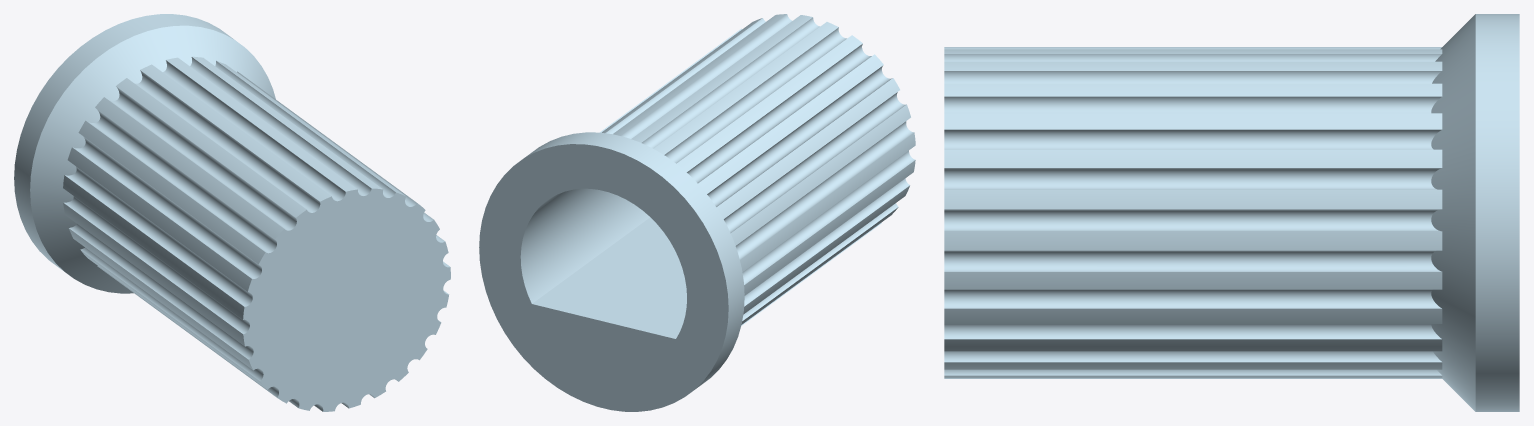
Rendered from A320LTP Knob.gltf.
3 renders of one model, left to right at view 1: azimuth 30°, elevation 25°; view 2: azimuth 150°, elevation 25°; view 3: azimuth 270°, elevation 25°, orthographic. The views are drawn at different scales.
Parts seen in each view (by area): view 1: Part 1; view 2: Part 1; view 3: Part 1.
Part boxes in pixels (x1,y1,x2,y2): Part 1: [14, 14, 450, 411]; Part 1: [479, 14, 915, 411]; Part 1: [944, 14, 1519, 411].
Bounding box in the file's own units: 0.009 × 0.00899 × 0.013.
